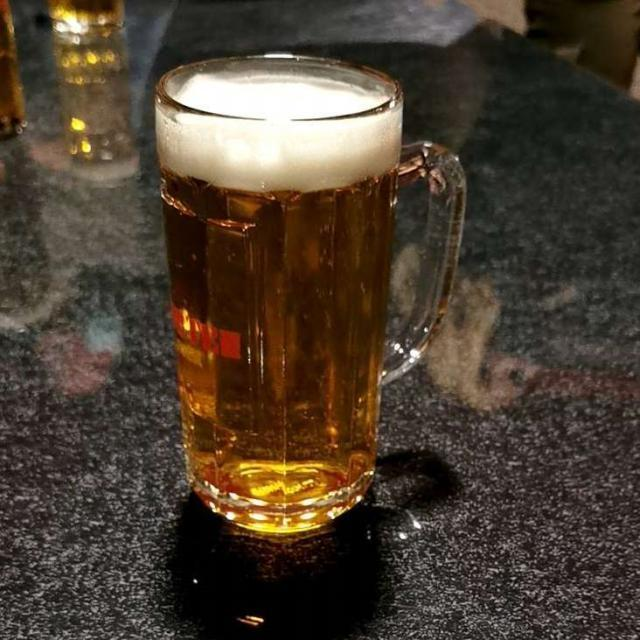beer: (159, 76, 407, 501)
